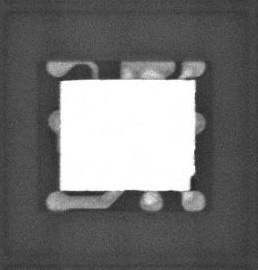DIE_INK: (188, 172, 195, 189)
